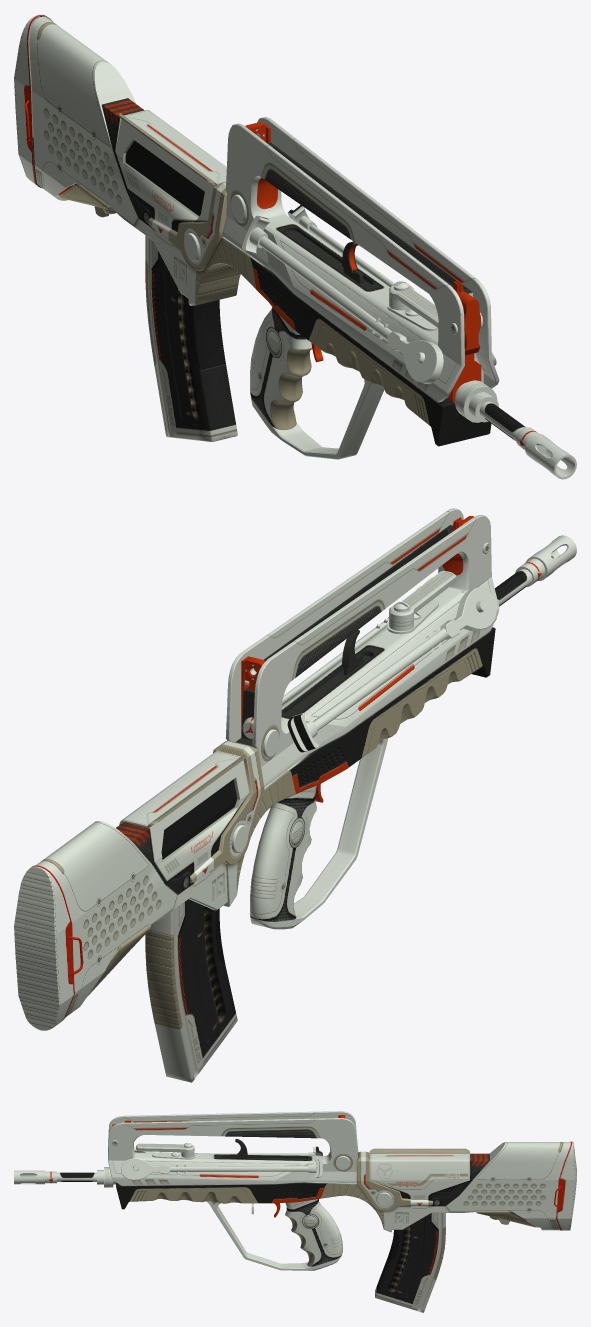
File: Famas_white.glb
3 views of the same model, one above another, from view 1: azimuth 30°, elevation 25°; view 2: azimuth 150°, elevation 25°; view 3: azimuth 270°, elevation 25° (orthographic). The views are drawn at different scales.
Parts seen in each view (by area): view 1: v_rif_famas_v_famas_model; view 2: v_rif_famas_v_famas_model; view 3: v_rif_famas_v_famas_model.
Part boxes in pixels (<box>): v_rif_famas_v_famas_model: <box>14,14,576,479</box>; v_rif_famas_v_famas_model: <box>14,508,576,1082</box>; v_rif_famas_v_famas_model: <box>14,1111,576,1312</box>.
Bounding box in the file's own units: 2.88 × 13.44 × 35.17.
Materials: 1 (1 with a texture image).
